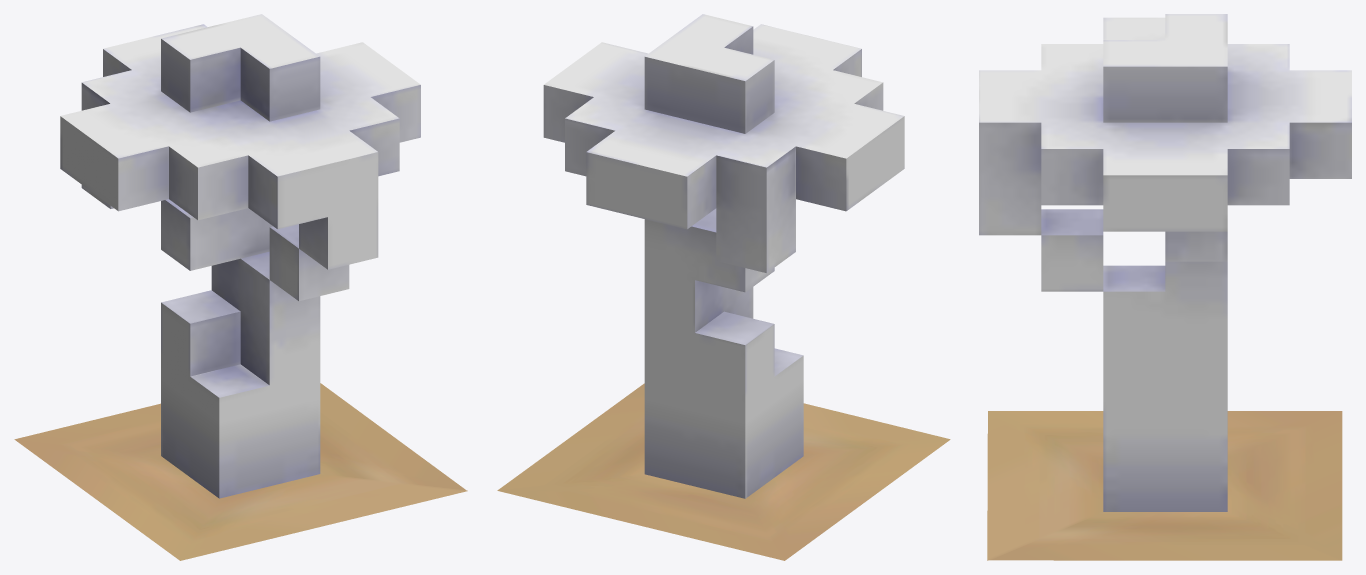
File: treesml (4) #318475.fbx
3 renders of one model, left to right at view 1: azimuth 30°, elevation 25°; view 2: azimuth 150°, elevation 25°; view 3: azimuth 270°, elevation 25°, orthographic. The views are drawn at different scales.
Parts seen in each view (by area): view 1: tree_sml_top, tree_sml_bot, tree_sml_shadow; view 2: tree_sml_top, tree_sml_bot, tree_sml_shadow; view 3: tree_sml_top, tree_sml_bot, tree_sml_shadow.
Boxes of the visible parts, bbox=[...] form: tree_sml_top: bbox=[60, 14, 420, 229]; tree_sml_bot: bbox=[81, 185, 378, 498]; tree_sml_shadow: bbox=[14, 383, 467, 560]; tree_sml_top: bbox=[543, 14, 904, 229]; tree_sml_bot: bbox=[644, 199, 803, 498]; tree_sml_shadow: bbox=[497, 383, 950, 560]; tree_sml_top: bbox=[979, 14, 1351, 231]; tree_sml_bot: bbox=[979, 179, 1227, 511]; tree_sml_shadow: bbox=[987, 411, 1342, 560].
Size of the model in its own units: 3 by 4 by 3.
3 materials, 3 textured.
